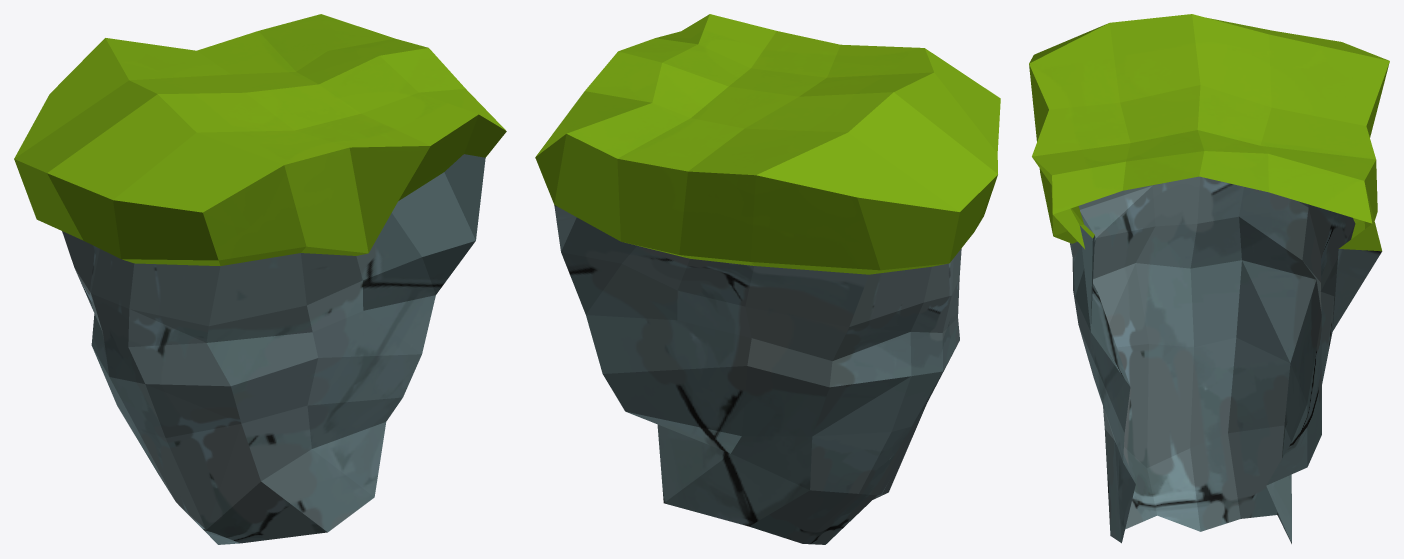
Rendered from rocks_wall_03.fbx.
3 renders of one model, left to right at view 1: azimuth 30°, elevation 25°; view 2: azimuth 150°, elevation 25°; view 3: azimuth 270°, elevation 25°, orthographic. The views are drawn at different scales.
Visible parts, largest first — view 1: Cube; view 2: Cube; view 3: Cube.
Boxes of the visible parts, bbox=[...] form: Cube: bbox=[14, 14, 506, 544]; Cube: bbox=[535, 14, 1000, 544]; Cube: bbox=[1029, 14, 1389, 543].
Size of the model in its own units: 431 by 497 by 335.
